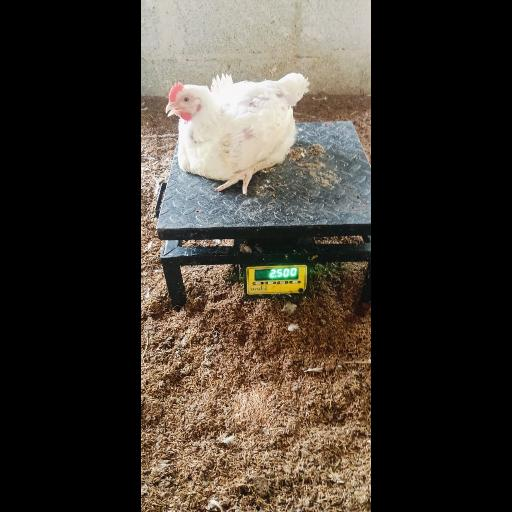chick: (164, 73, 312, 195)
